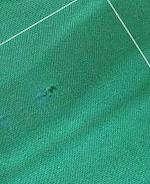knot: (40, 82, 62, 100)
